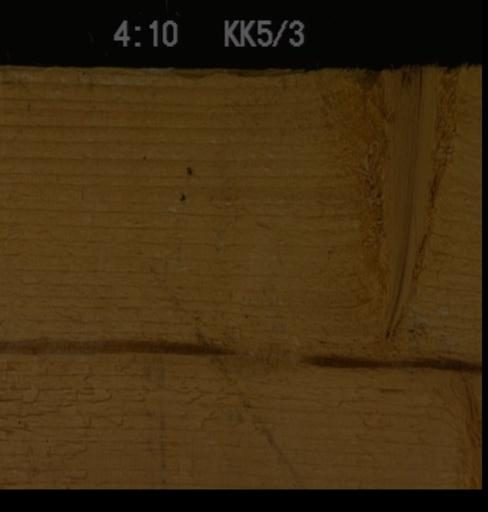wave: (169, 66, 323, 78)
